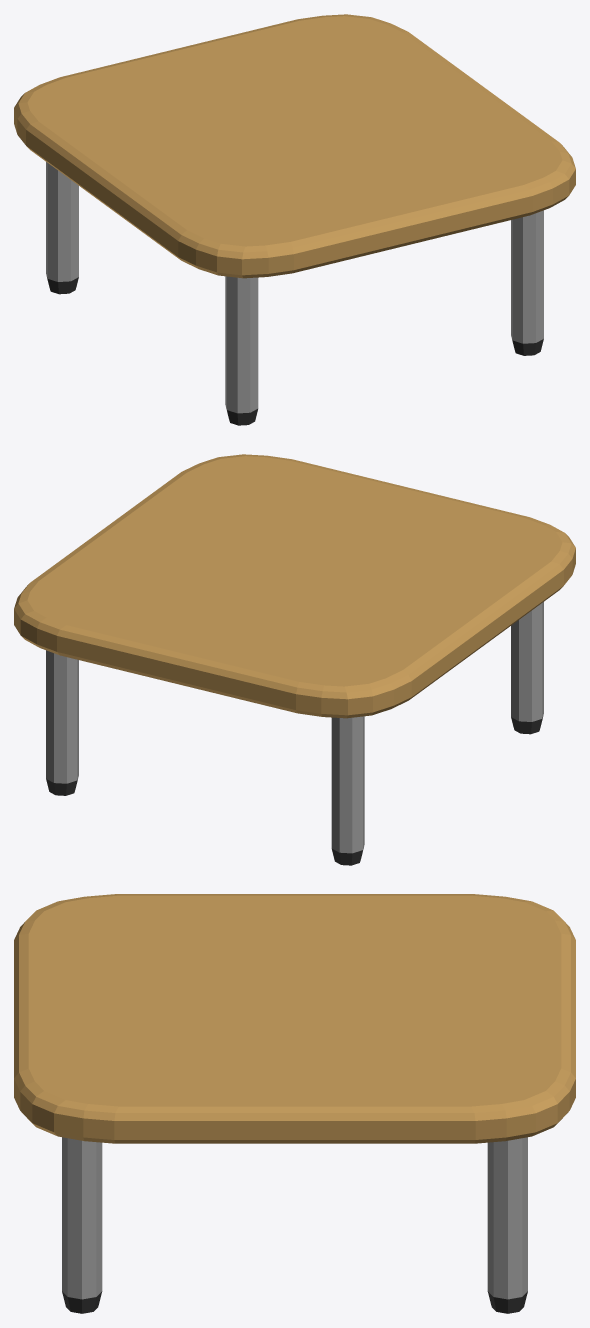
Rendered from SM_SmallTable.fbx.
3 views of the same model, one above another, from view 1: azimuth 30°, elevation 25°; view 2: azimuth 150°, elevation 25°; view 3: azimuth 270°, elevation 25° (orthographic). The views are drawn at different scales.
Visible parts, largest first — view 1: SM_SmallTable_2.1; view 2: SM_SmallTable_2.1; view 3: SM_SmallTable_2.1.
Part boxes in pixels (x1,y1,x2,y2): SM_SmallTable_2.1: (14, 14, 575, 425); SM_SmallTable_2.1: (14, 454, 575, 865); SM_SmallTable_2.1: (14, 894, 575, 1313).
Bounding box in the file's own units: 94 × 43.84 × 100.
